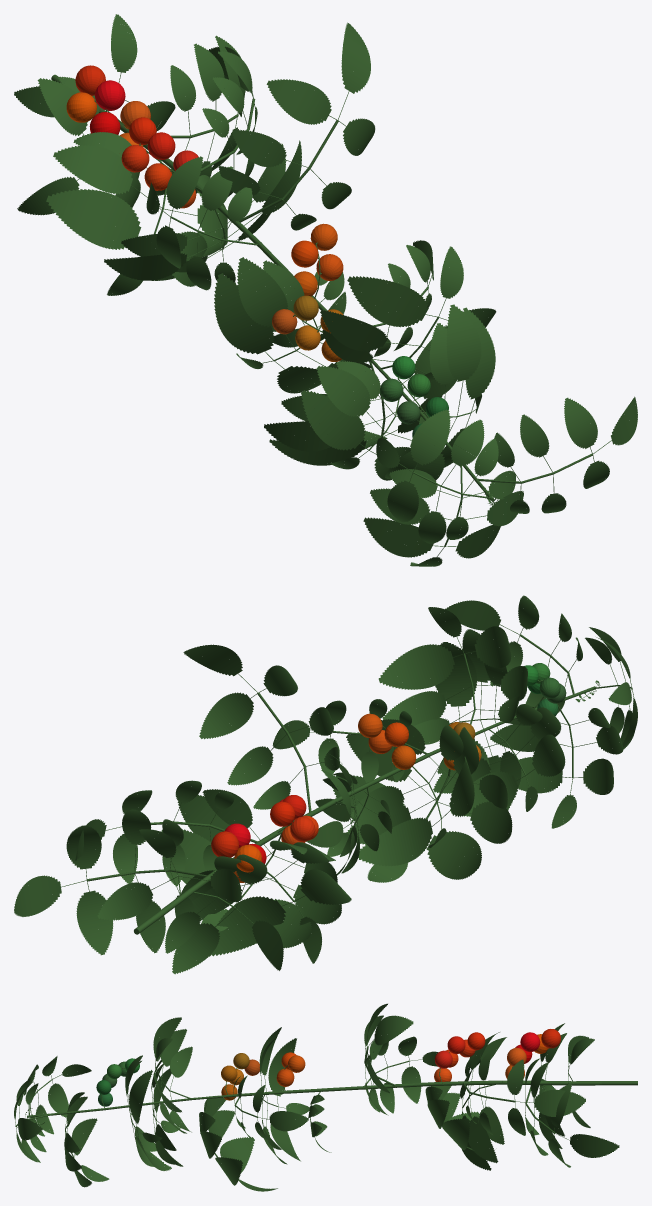
File: tomato21.dae
3 views of the same model, one above another, from view 1: azimuth 30°, elevation 25°; view 2: azimuth 150°, elevation 25°; view 3: azimuth 270°, elevation 25° (orthographic). The views are drawn at different scales.
Visible parts, largest first — view 1: node; view 2: node; view 3: node.
Part boxes in pixels (left/top/right/bottom): node: left=14, top=14, right=637, bottom=566; node: left=14, top=595, right=637, bottom=974; node: left=14, top=1003, right=637, bottom=1191.
Bounding box in the file's own units: 0.564 × 1.71 × 0.6471.
